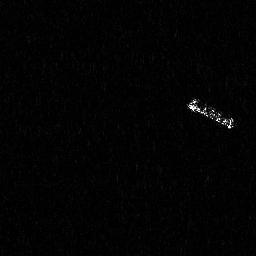ship: (185, 95, 237, 132)
